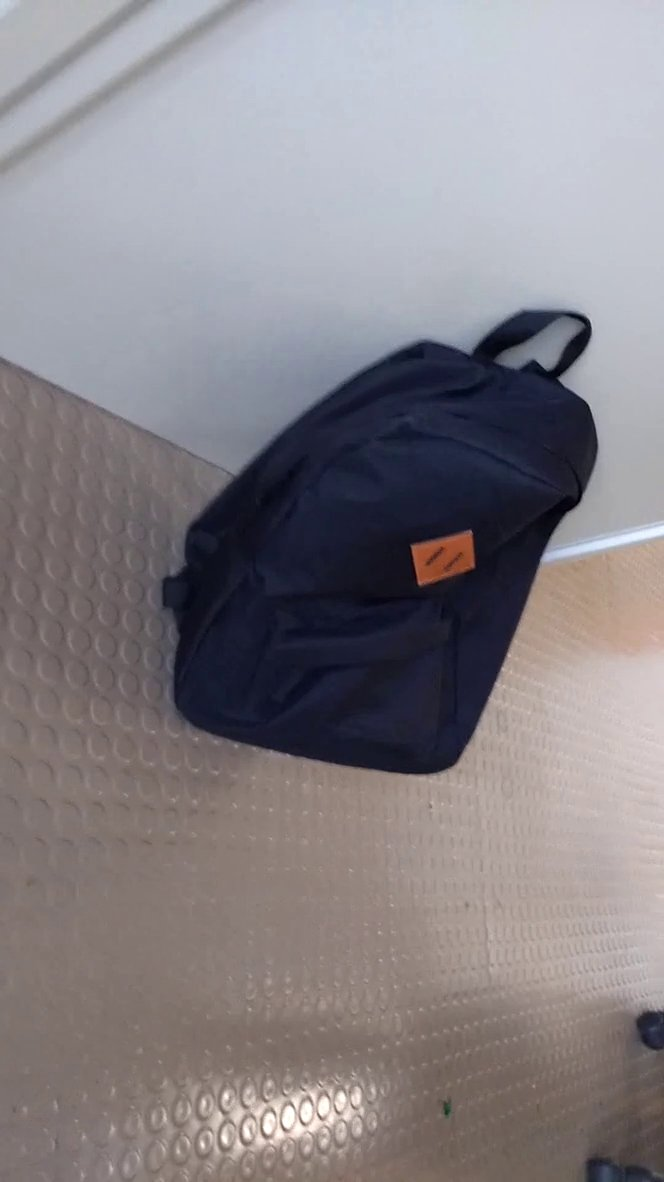bag: (151, 287, 609, 796)
